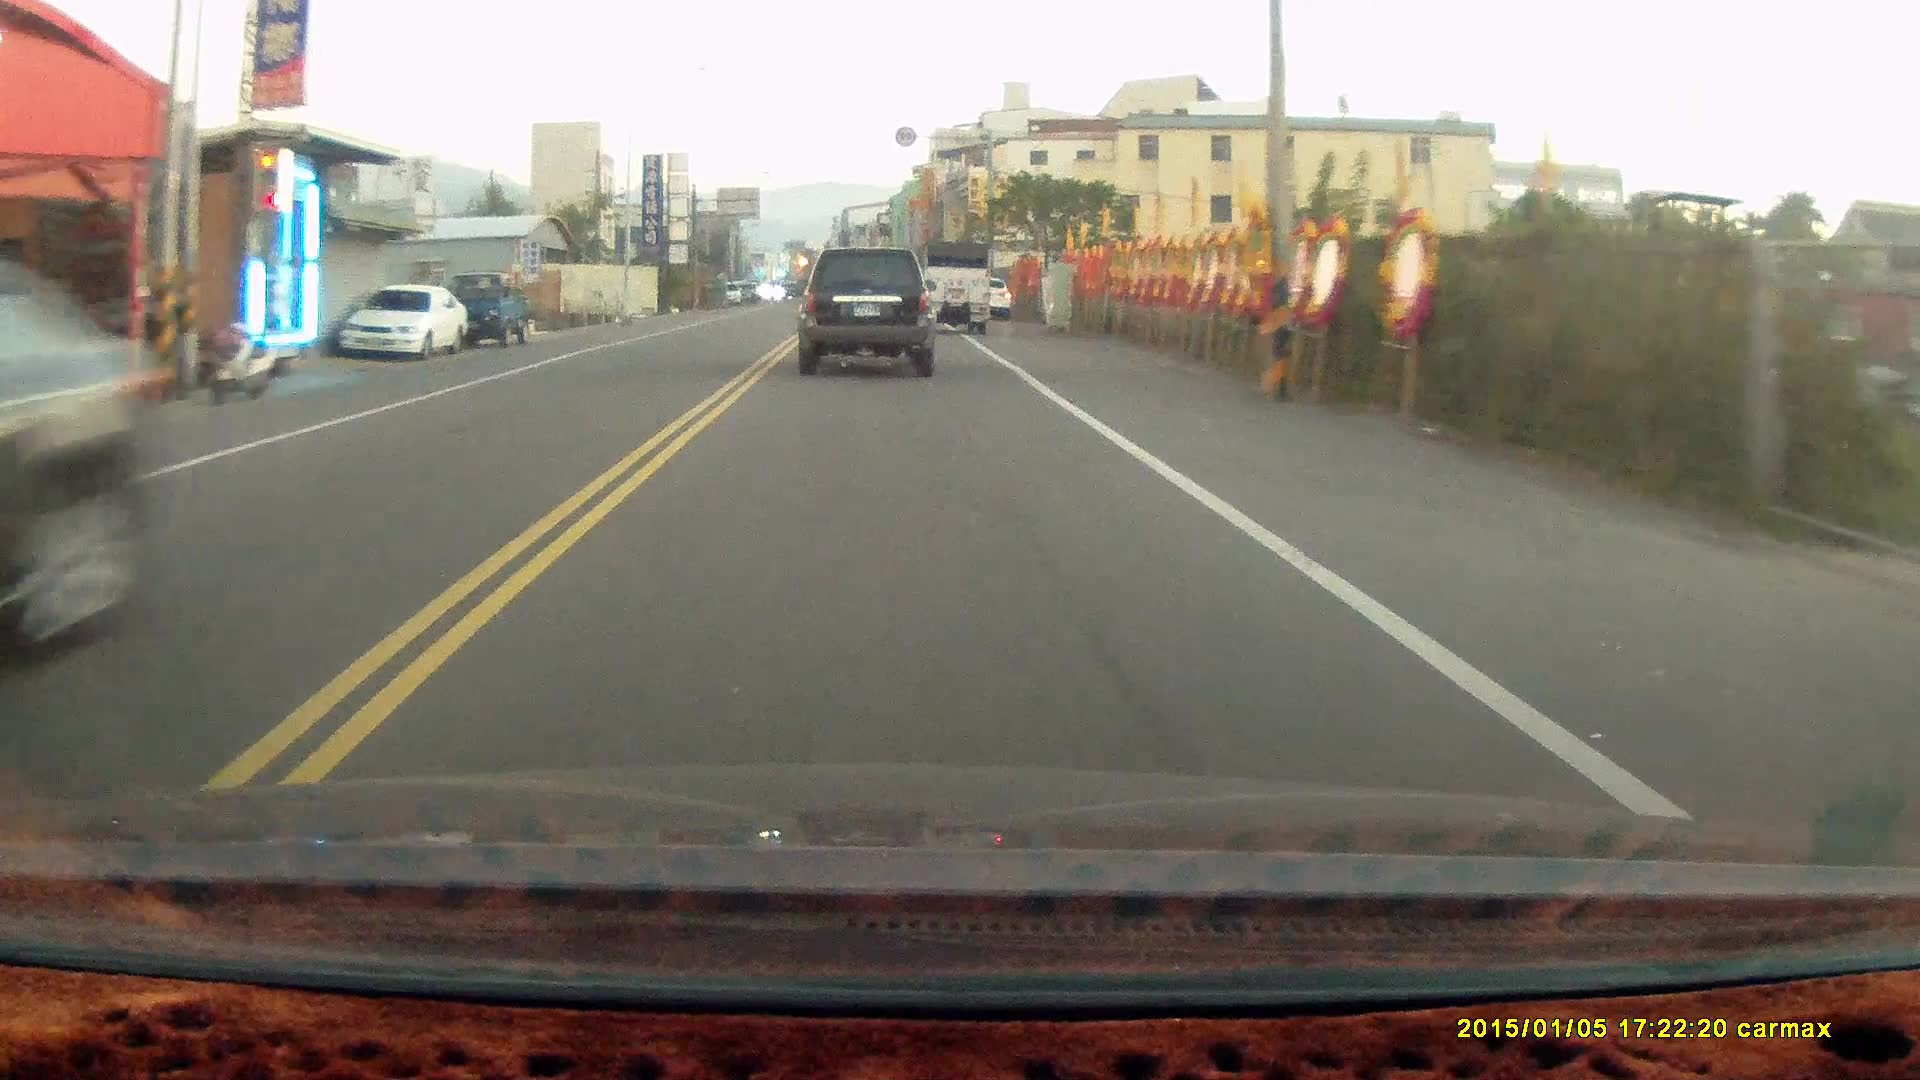vehicle: (800, 248, 940, 380), (342, 286, 471, 365), (446, 270, 539, 351), (923, 241, 996, 339)
